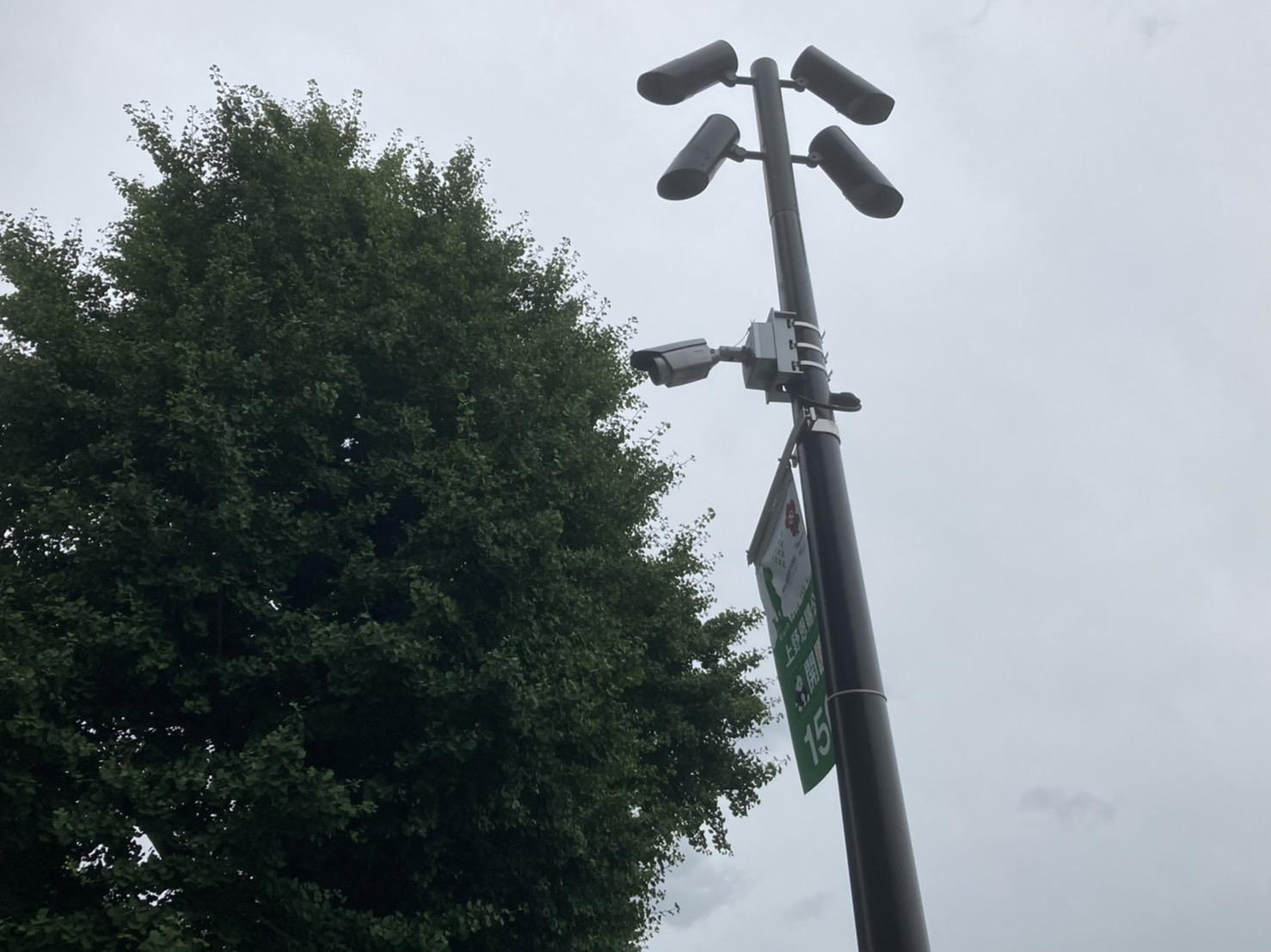tutu: (623, 332, 715, 402)
